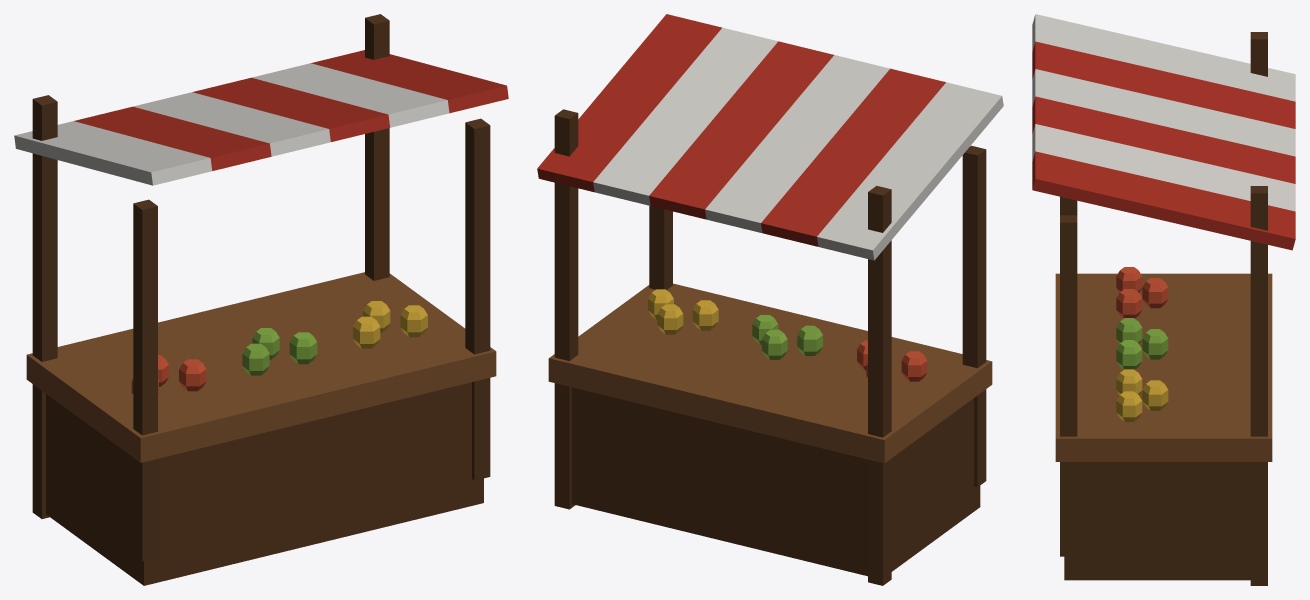
The model's file is market_stand_broken.glb.
The picture shows the model from 3 angles, left to right: view 1: azimuth 30°, elevation 25°; view 2: azimuth 150°, elevation 25°; view 3: azimuth 270°, elevation 25°; orthographic projection. The views are drawn at different scales.
Visible parts, largest first — view 1: market_stand_piece2, market_stand_piece3, market_stand_piece1, market_stand_piece6, market_stand_piece4, market_stand_piece7, market_stand_piece0, market_stand_piece5; view 2: market_stand_piece1, market_stand_piece2, market_stand_piece3, market_stand_piece7, market_stand_piece0, market_stand_piece4, market_stand_piece5, market_stand_piece6; view 3: market_stand_piece3, market_stand_piece1, market_stand_piece2, market_stand_piece6, market_stand_piece7, market_stand_piece5, market_stand_piece4, market_stand_piece0.
Boxes of the visible parts, <box> form: market_stand_piece2: <box>50,118,359,585</box>; market_stand_piece3: <box>215,14,508,394</box>; market_stand_piece1: <box>114,50,426,531</box>; market_stand_piece6: <box>310,359,490,528</box>; market_stand_piece4: <box>27,96,230,569</box>; market_stand_piece7: <box>14,95,209,433</box>; market_stand_piece0: <box>32,344,367,542</box>; market_stand_piece5: <box>58,111,364,509</box>; market_stand_piece1: <box>537,150,797,545</box>; market_stand_piece2: <box>785,52,1003,522</box>; market_stand_piece3: <box>545,14,821,333</box>; market_stand_piece7: <box>750,191,908,511</box>; market_stand_piece0: <box>742,325,916,585</box>; market_stand_piece4: <box>830,183,958,553</box>; market_stand_piece5: <box>753,144,850,452</box>; market_stand_piece6: <box>724,296,787,333</box>; market_stand_piece3: <box>1032,102,1279,522</box>; market_stand_piece1: <box>1108,112,1295,585</box>; market_stand_piece2: <box>1032,14,1227,373</box>; market_stand_piece6: <box>1055,365,1143,580</box>; market_stand_piece7: <box>1198,37,1295,340</box>; market_stand_piece5: <box>1078,86,1295,369</box>; market_stand_piece4: <box>1138,32,1270,328</box>; market_stand_piece0: <box>1103,290,1203,353</box>.
Bounding box in the file's own units: 0.9 × 1.04 × 0.6081.
